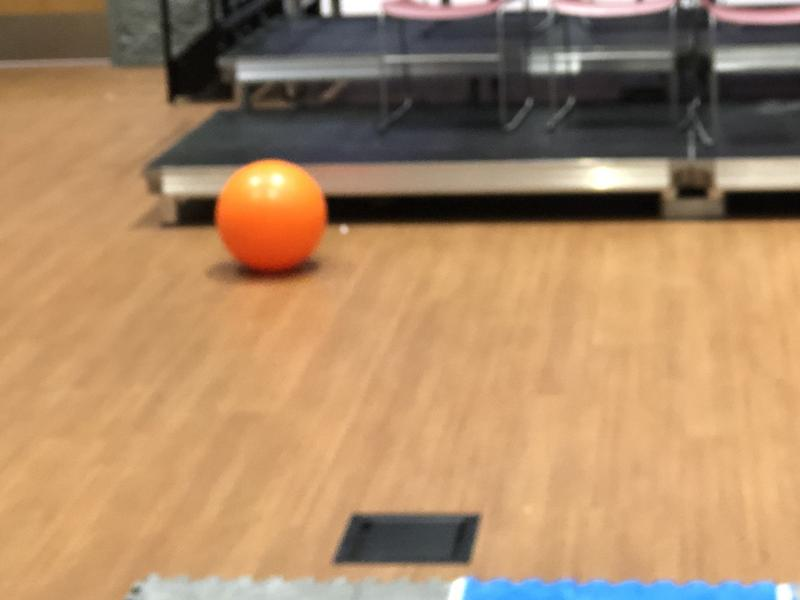ball: (216, 158, 327, 272)
